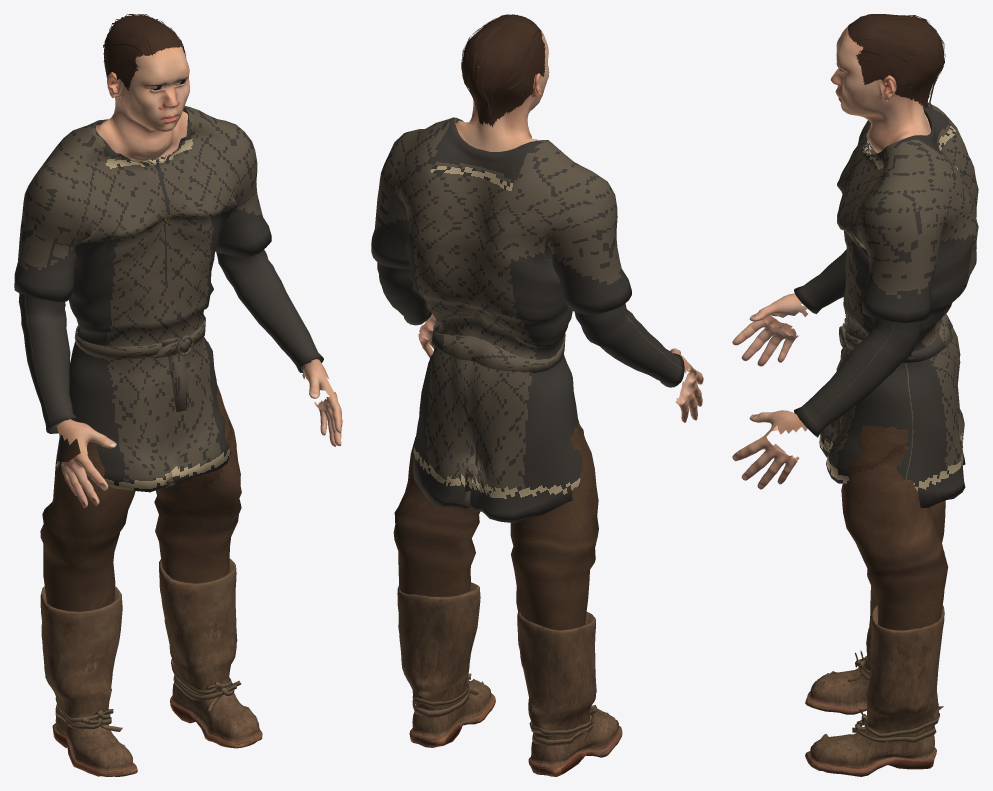
The model's file is armor-travel-coat.glb.
The picture shows the model from 3 angles, left to right: view 1: azimuth 30°, elevation 25°; view 2: azimuth 150°, elevation 25°; view 3: azimuth 270°, elevation 25°; orthographic projection.
Parts seen in each view (by area): view 1: armor-travel-coat runtime mesh; view 2: armor-travel-coat runtime mesh; view 3: armor-travel-coat runtime mesh.
Boxes of the visible parts, x1=… form: armor-travel-coat runtime mesh: x1=14, y1=14, x2=342, y2=776; armor-travel-coat runtime mesh: x1=371, y1=14, x2=703, y2=776; armor-travel-coat runtime mesh: x1=732, y1=14, x2=978, y2=776.
Bounding box in the file's own units: 0.7467 × 1.85 × 0.5745.
8 materials, 7 textured.
